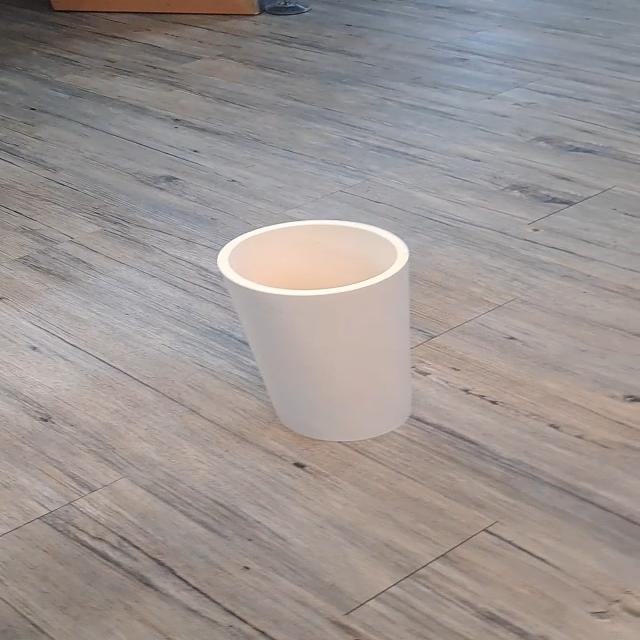CORAL: (163, 197, 494, 474)
